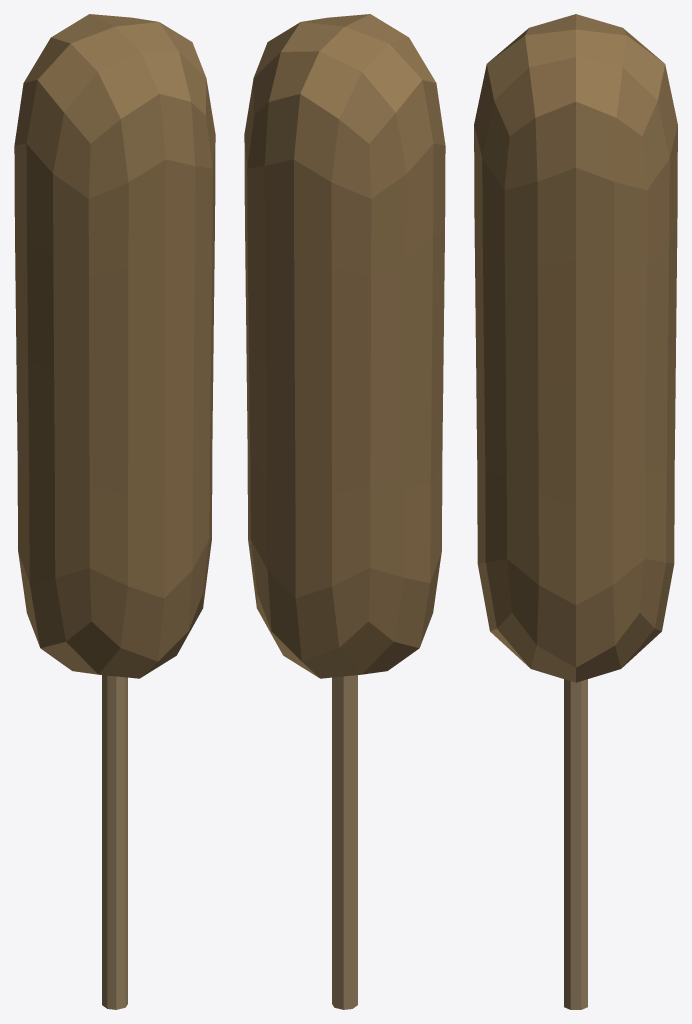
File: Corndog.obj
3 views of the same model, side by side, from view 1: azimuth 30°, elevation 25°; view 2: azimuth 150°, elevation 25°; view 3: azimuth 270°, elevation 25° (orthographic).
Parts seen in each view (by area): view 1: mesh_1, mesh_0; view 2: mesh_1, mesh_0; view 3: mesh_1, mesh_0.
Boxes of the visible parts, x1,y1,x2,y2 form: mesh_1: (14, 14, 215, 678); mesh_0: (102, 675, 127, 1009); mesh_1: (244, 14, 445, 678); mesh_0: (332, 675, 357, 1009); mesh_1: (474, 14, 677, 682); mesh_0: (564, 679, 587, 1009).
Bounding box in the file's own units: 0.2562 × 1.35 × 0.2562.
